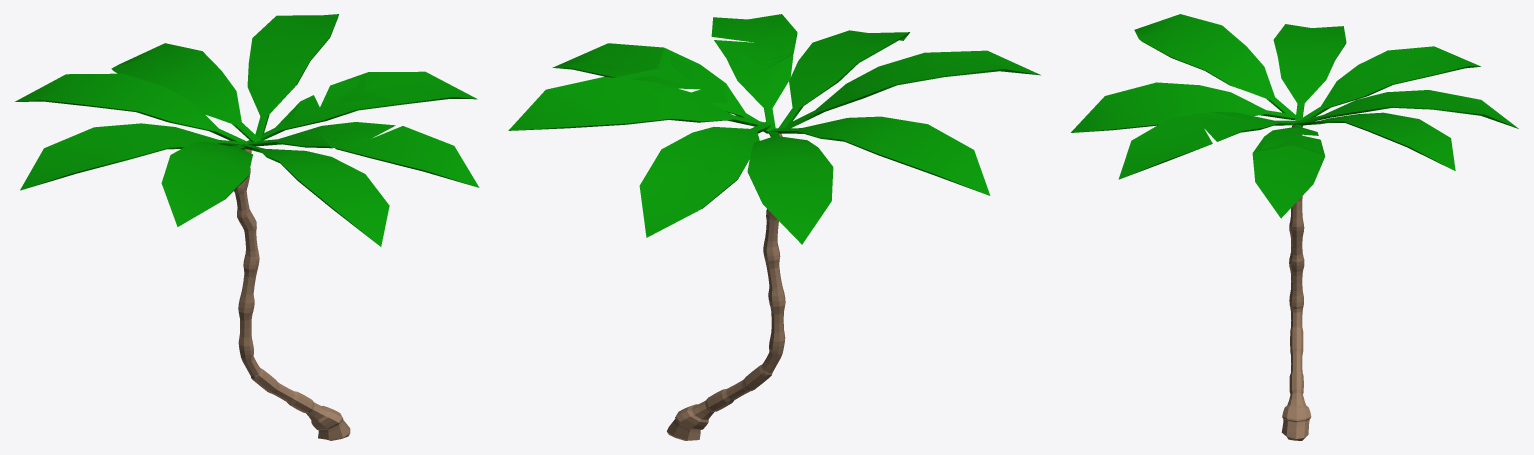
The model's file is Palmtree.fbx.
3 views of the same model, side by side, from view 1: azimuth 30°, elevation 25°; view 2: azimuth 150°, elevation 25°; view 3: azimuth 270°, elevation 25° (orthographic). The views are drawn at different scales.
Parts seen in each view (by area): view 1: group1_pasted__pCube1; view 2: group1_pasted__pCube1; view 3: group1_pasted__pCube1.
Part boxes in pixels (bbox=[...]): group1_pasted__pCube1: bbox=[15, 14, 479, 440]; group1_pasted__pCube1: bbox=[508, 14, 1040, 440]; group1_pasted__pCube1: bbox=[1071, 14, 1518, 440].
Bounding box in the file's own units: 15.12 × 11.99 × 15.14.
